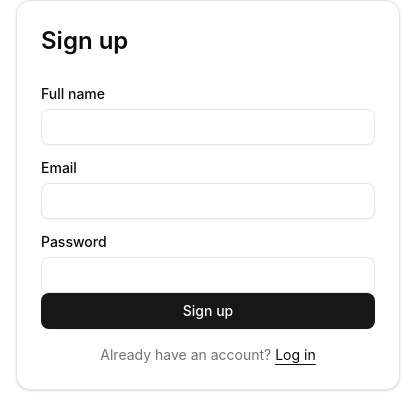
Test: SignupPage › shows a confirmation message after a successful signup
Type "Test Buyer" into the field labelled "Full name" at (208, 127), box x1=41 y1=109 x2=375 y2=145
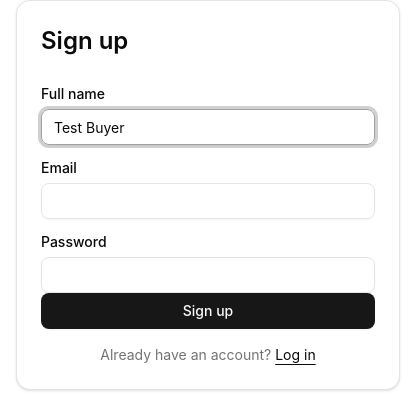
Type "buyer@example.com" into the field labelled "Email" at (208, 201), box x1=41 y1=183 x2=375 y2=219
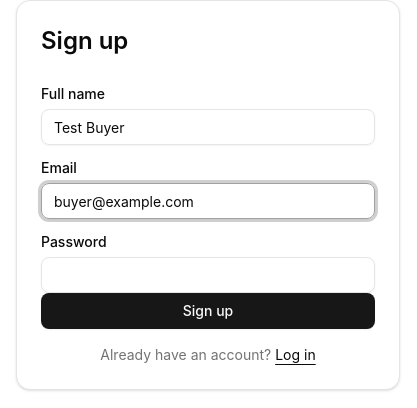
Type "correct horse battery staple" into the password field labelled "Password" at (208, 275), box x1=41 y1=257 x2=375 y2=293
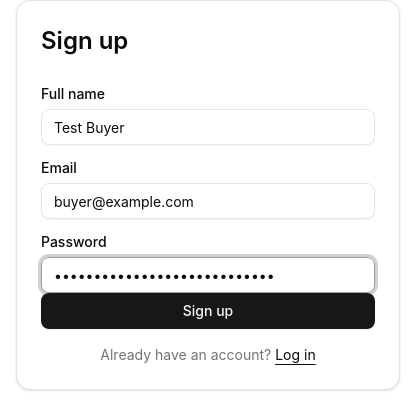
Click the button "Sign up" at (208, 311), box x1=41 y1=293 x2=375 y2=329
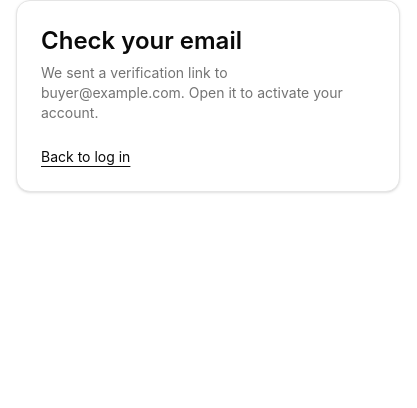
Now the text "Check your email" is shown, box x1=41 y1=26 x2=242 y2=55
